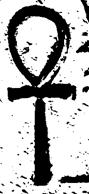Ankh: (2, 2, 82, 187)
